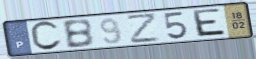5: (162, 11, 190, 41)
9: (99, 17, 124, 46)
B: (60, 17, 96, 50)
C: (28, 20, 64, 52)
E: (193, 7, 229, 38)
Z: (126, 12, 162, 45)
